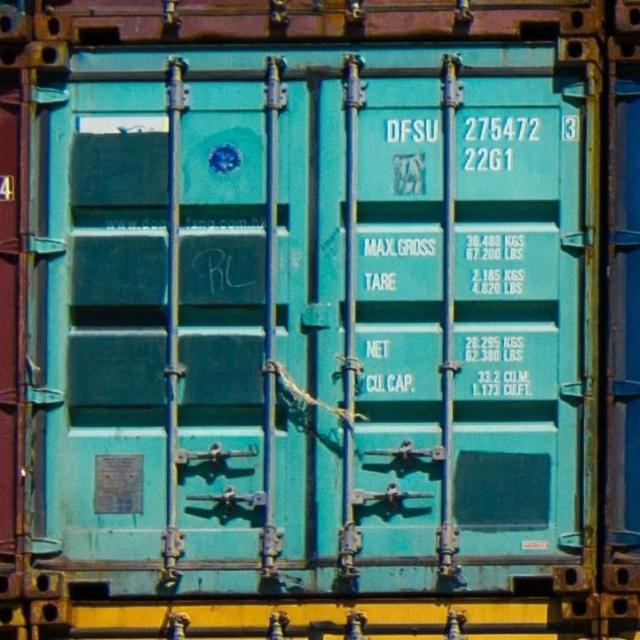ISO: (464, 146, 514, 173)
container_number: (383, 115, 570, 144)
